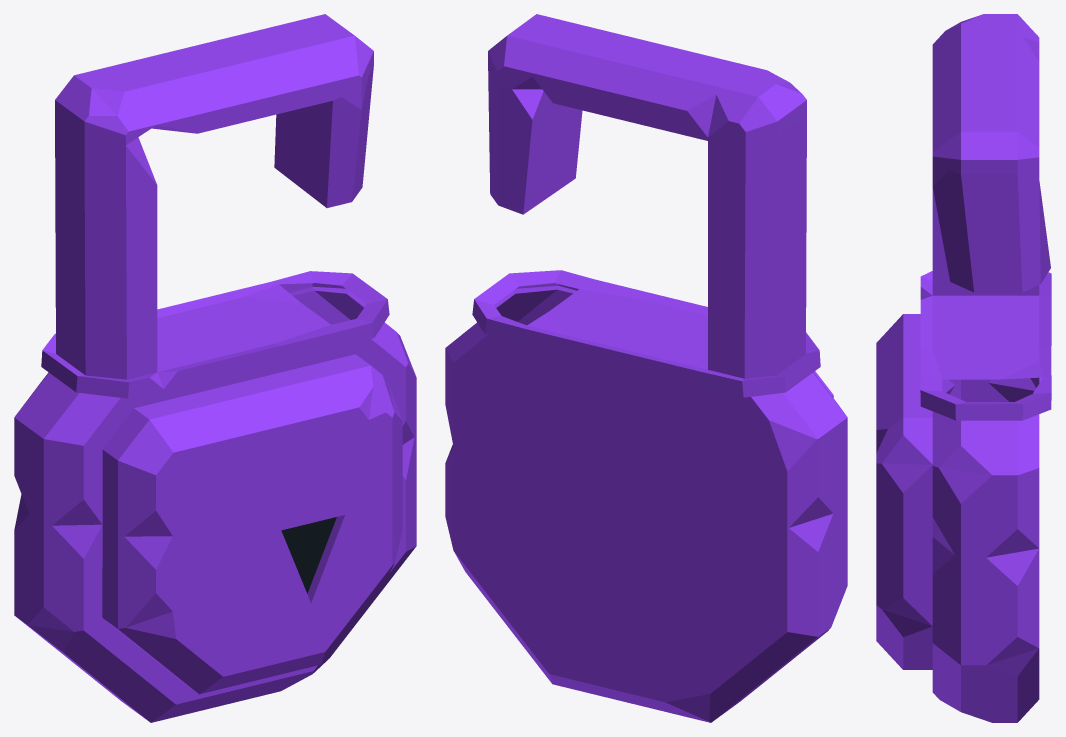
File: purple_unlock.glb
3 views of the same model, side by side, from view 1: azimuth 30°, elevation 25°; view 2: azimuth 150°, elevation 25°; view 3: azimuth 270°, elevation 25° (orthographic). The views are drawn at different scales.
Visible parts, largest first — view 1: Circle.015; view 2: Circle.015; view 3: Circle.015.
Part boxes in pixels (x1,y1,x2,y2): Circle.015: (14,14,416,722); Circle.015: (445,14,847,722); Circle.015: (876,14,1051,722).
Bounding box in the file's own units: 2 × 3.27 × 0.8475.
Materials: 1 (1 with a texture image).
